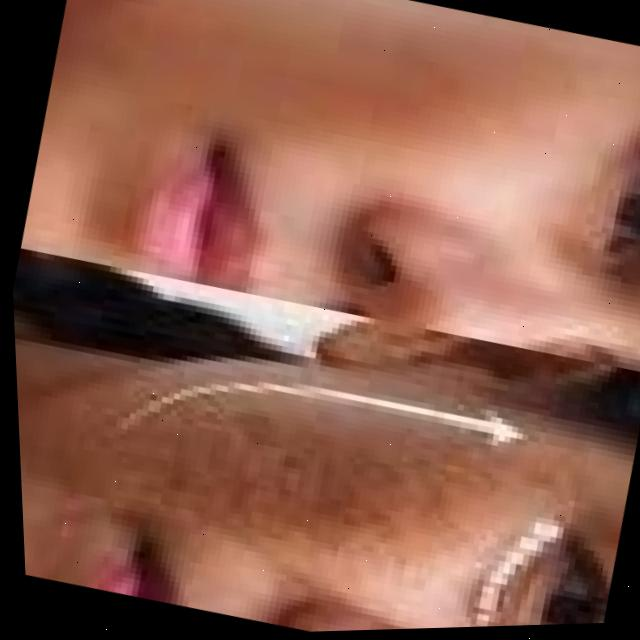Melasma: (49, 323, 515, 591)
